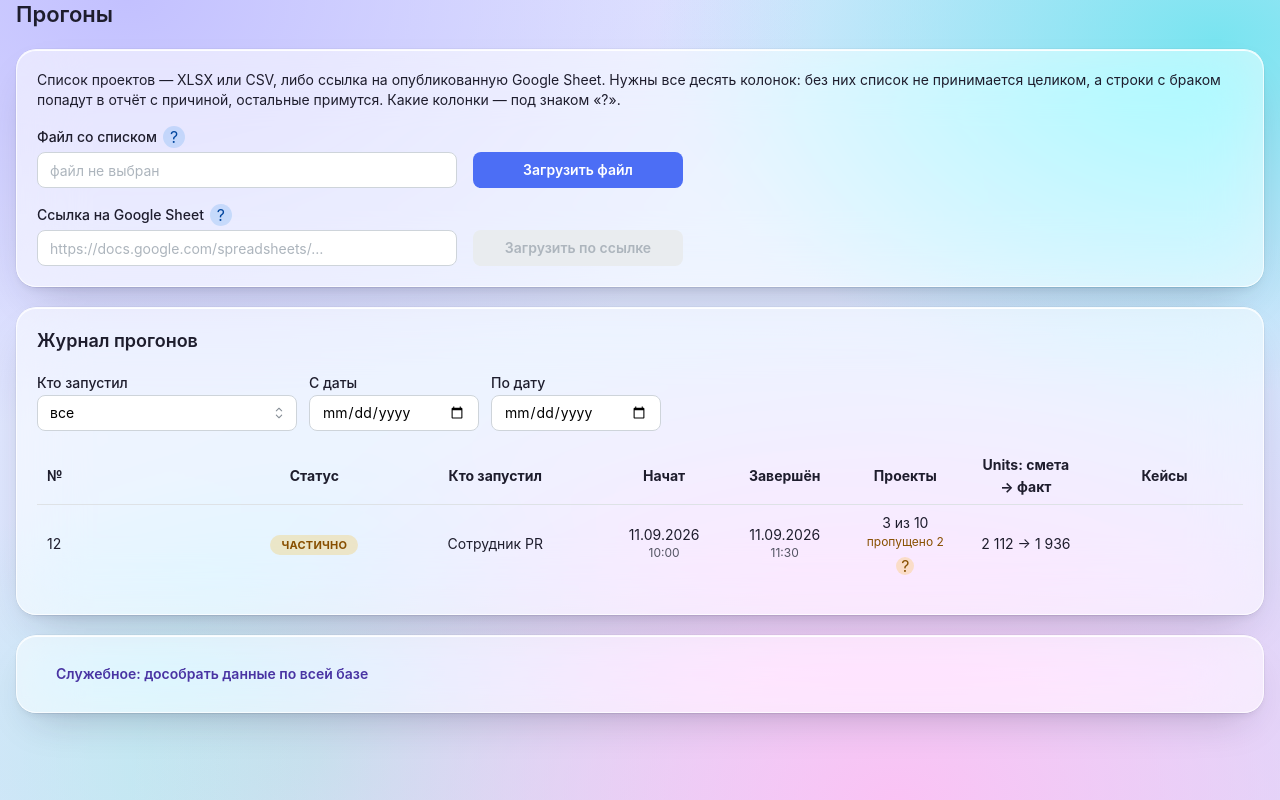
раскрытие показывает только проблемы › в раскрытии только те, кого прогон не собрал
The width and height of the screenshot is (1280, 800).
Step 1. Click the button named "почему пропущены" → coordinates (905, 566), box x1=896 y1=557 x2=914 y2=575
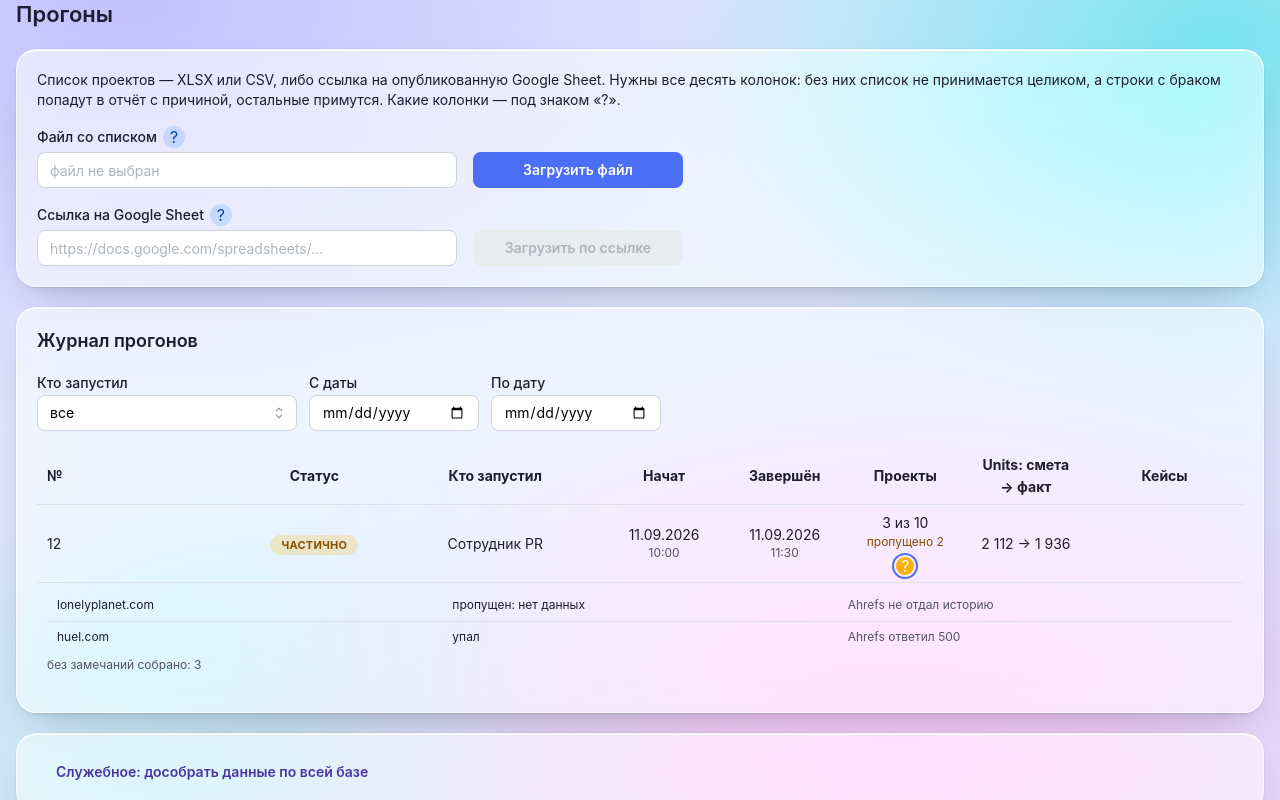
Result: the text "lonelyplanet.com" is shown at x1=57 y1=597 x2=154 y2=612
Result: the text "huel.com" is shown at x1=57 y1=629 x2=109 y2=644
Result: the text "без замечаний собрано: 3" is shown at x1=47 y1=656 x2=201 y2=672
